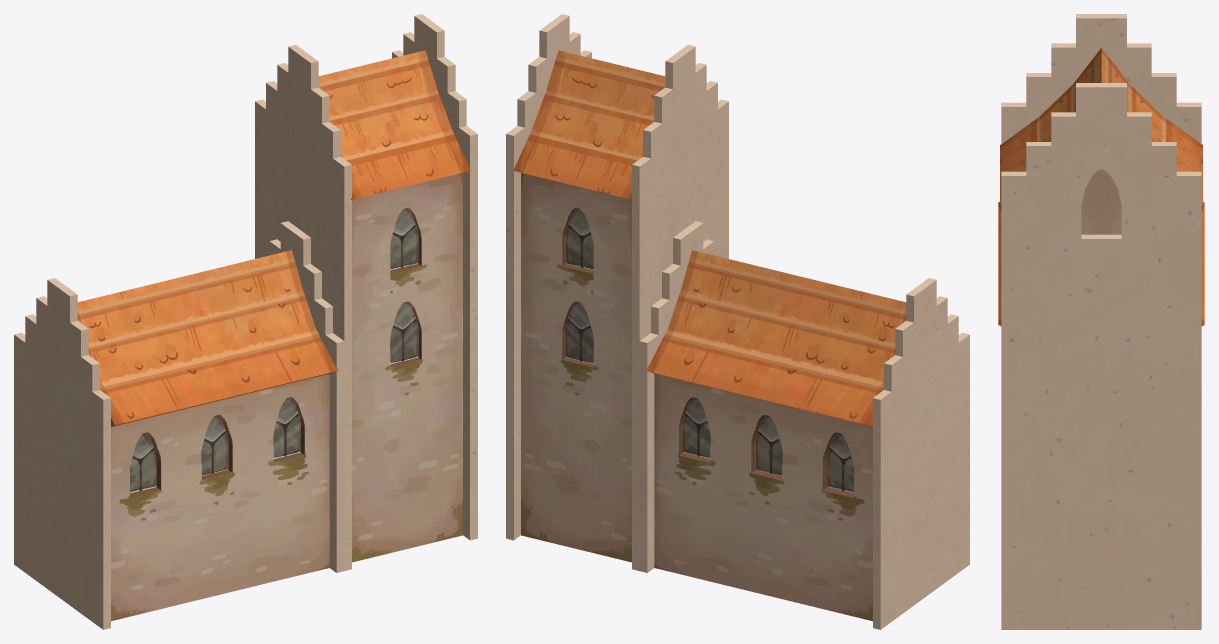
File: church.fbx
The picture shows the model from 3 angles, left to right: view 1: azimuth 30°, elevation 25°; view 2: azimuth 150°, elevation 25°; view 3: azimuth 270°, elevation 25°; orthographic projection. The views are drawn at different scales.
Parts seen in each view (by area): view 1: Cube.003, Cube.004; view 2: Cube.003, Cube.004; view 3: Cube.004, Cube.003.
Part boxes in pixels (x1,y1,x2,y2): Cube.003: (77, 50, 470, 621); Cube.004: (14, 14, 477, 629); Cube.003: (513, 50, 906, 621); Cube.004: (506, 14, 969, 629); Cube.004: (1001, 14, 1201, 629); Cube.003: (998, 48, 1204, 326).
Size of the model in its own units: 1194 by 1473 by 507.
